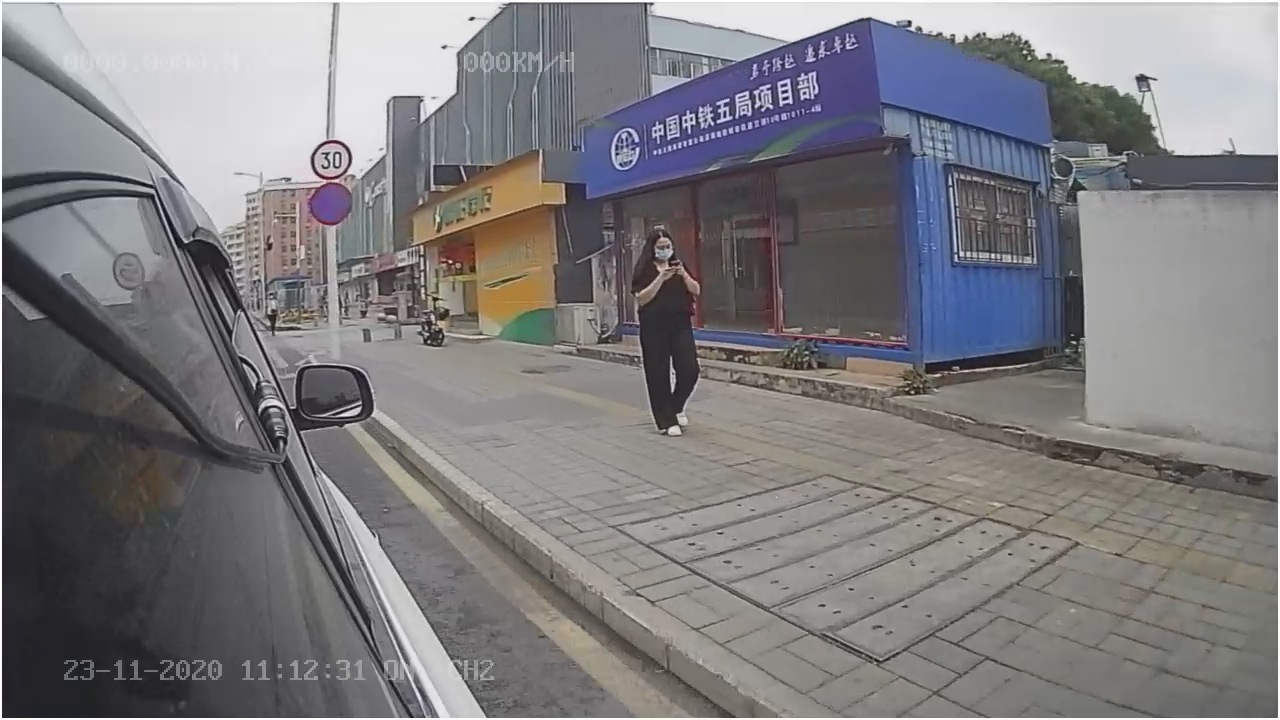person: (619, 227, 707, 438)
